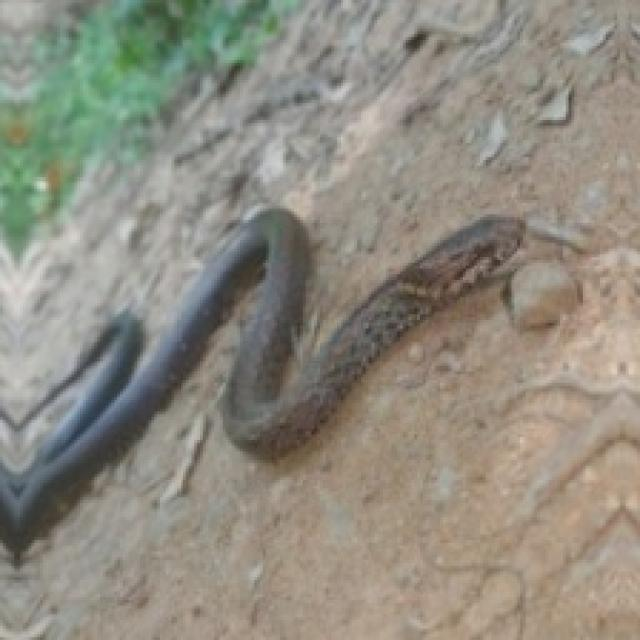reinhardts lined snake: (0, 209, 523, 549)
